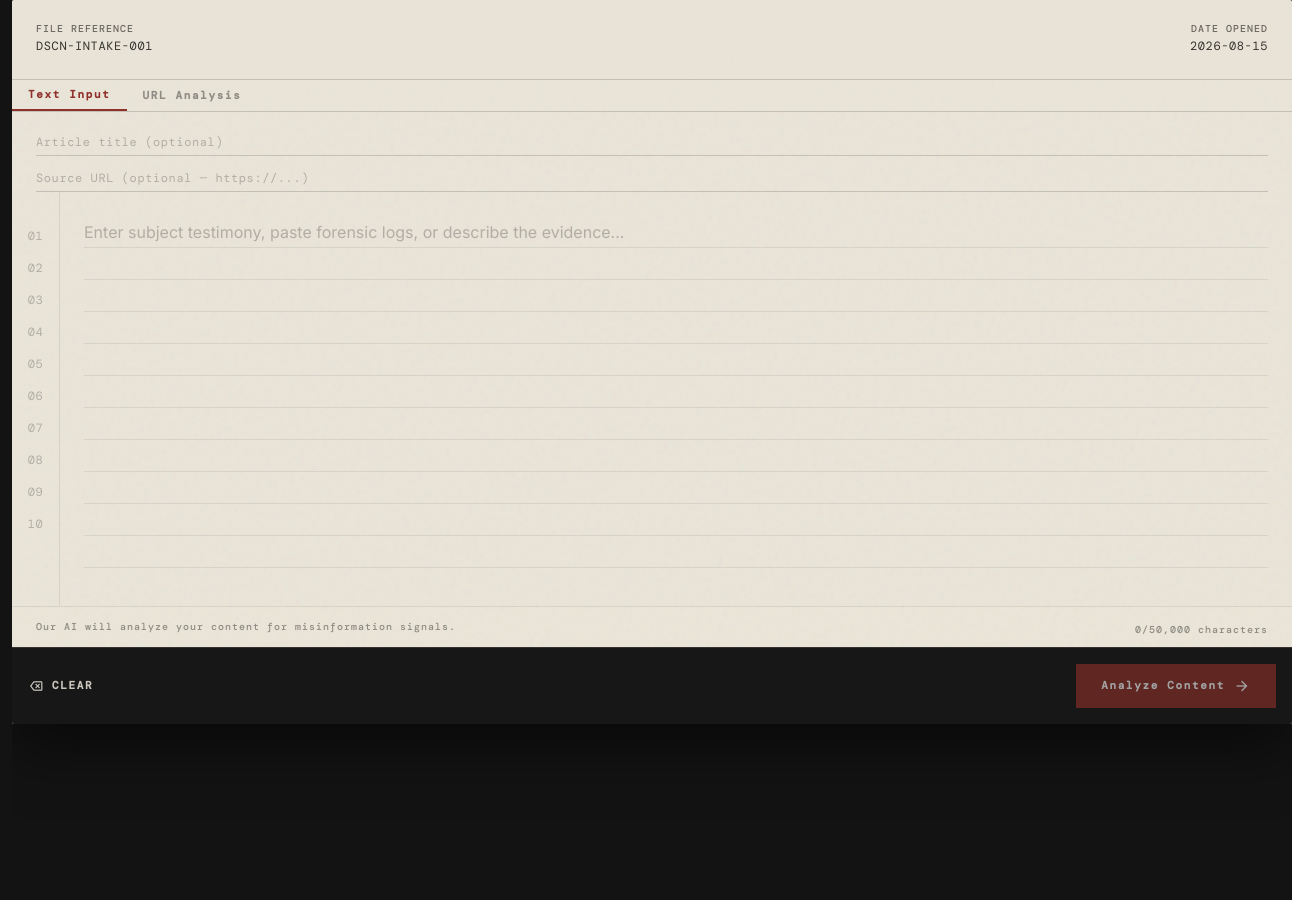
Scenario: ArticleInput Component › Form Validation › updates character counter as user types
This screenshot has width=1292, height=900.
Type "Hello" into the text box named "article content" at (676, 399), box [84,216,1268,582]
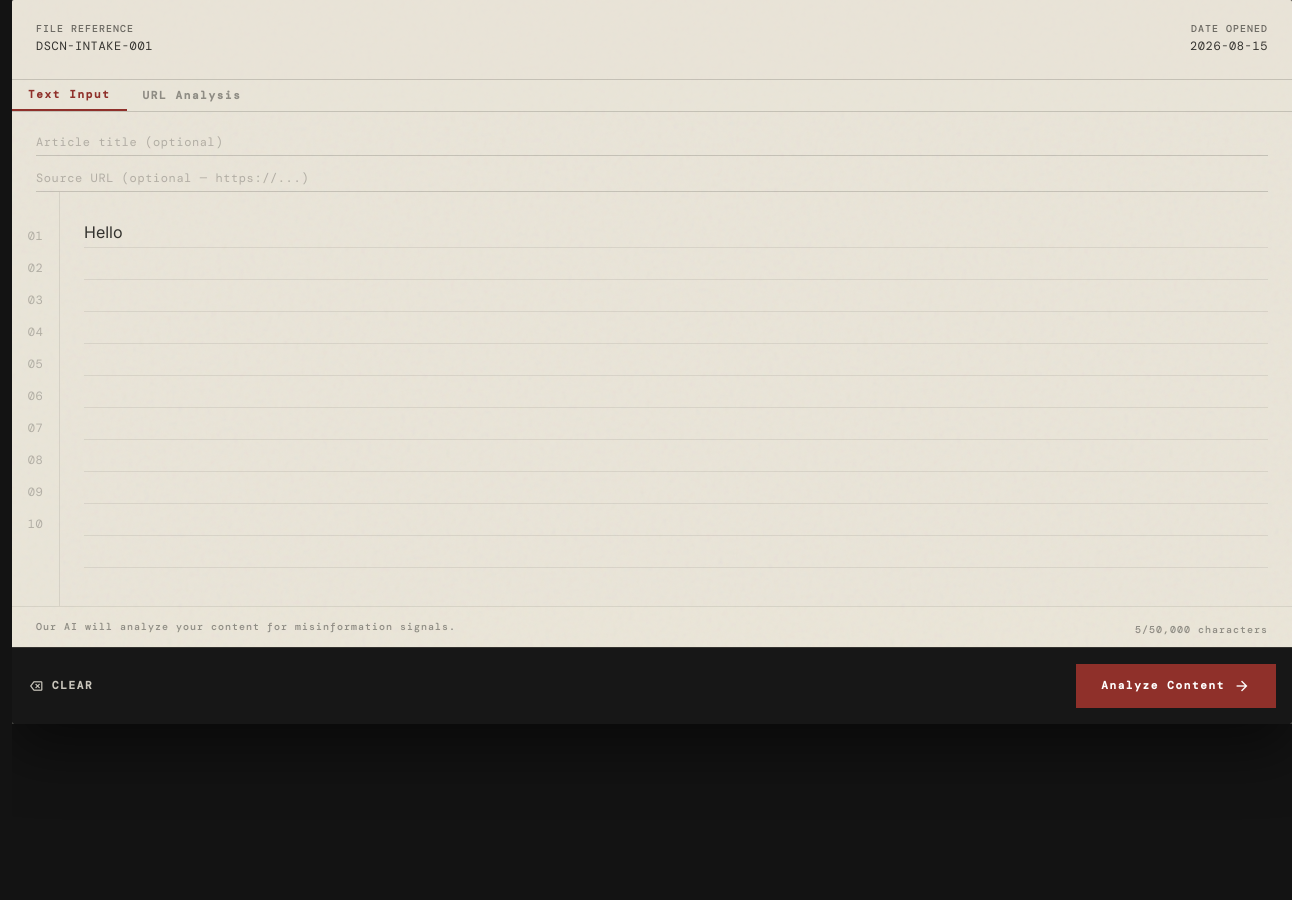
Now the text "5/50,000 characters" is shown, box [1135,623,1268,636]
